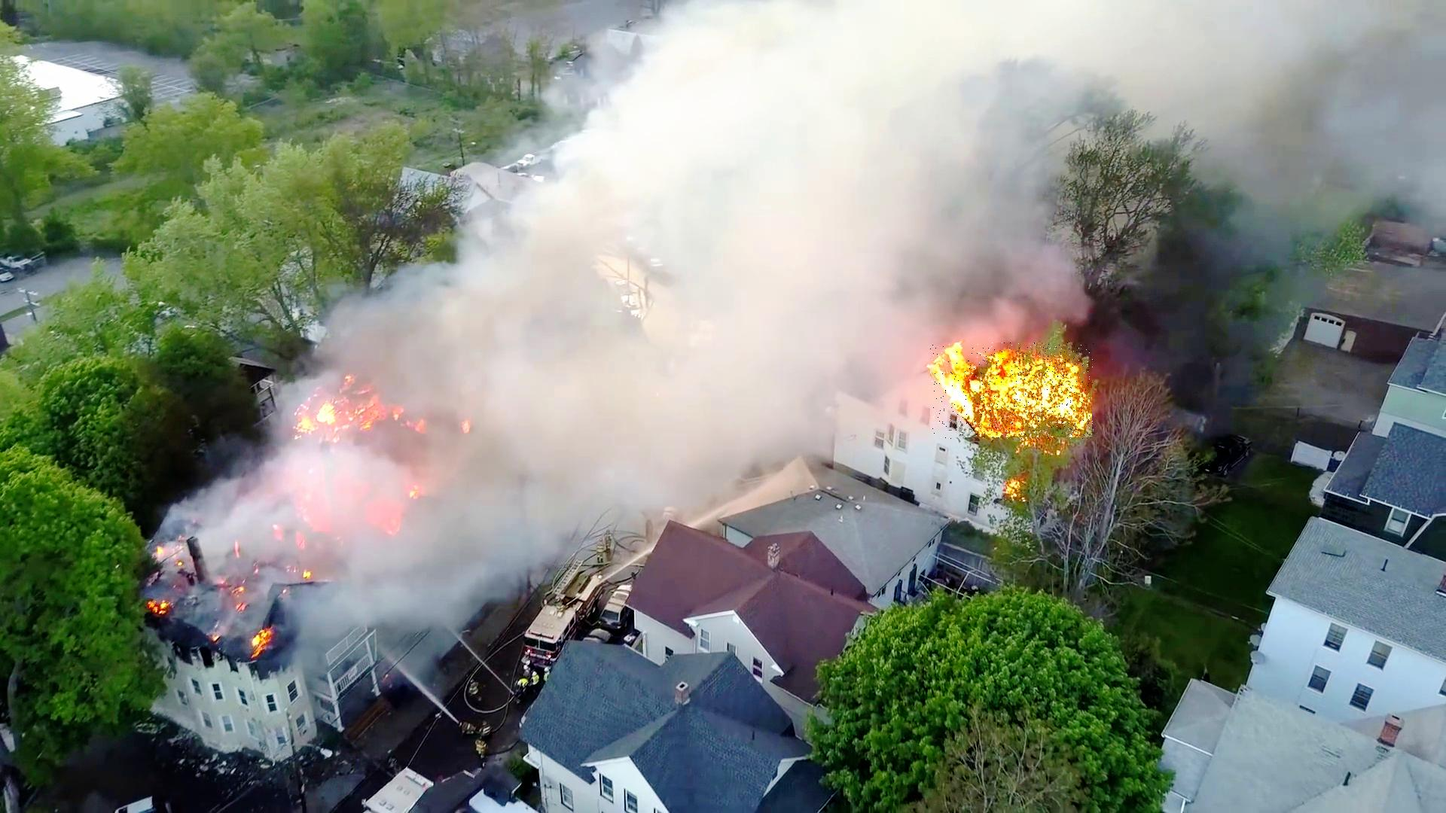fire: (931, 343, 1094, 440)
